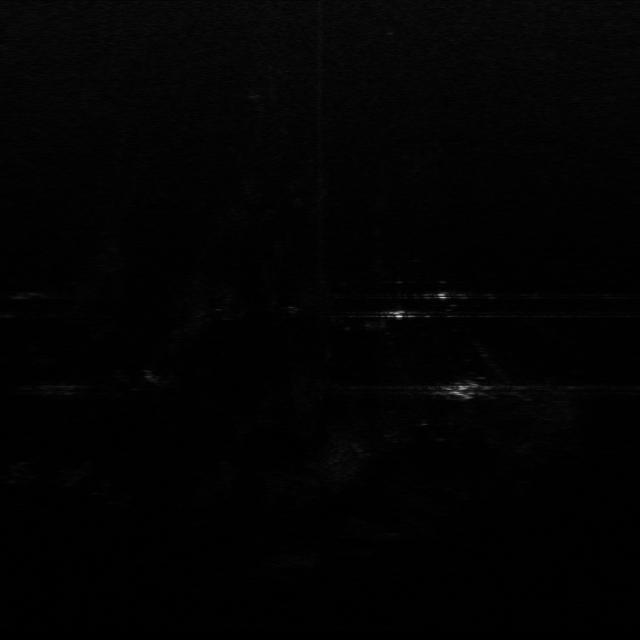rov: (444, 381, 487, 402)
